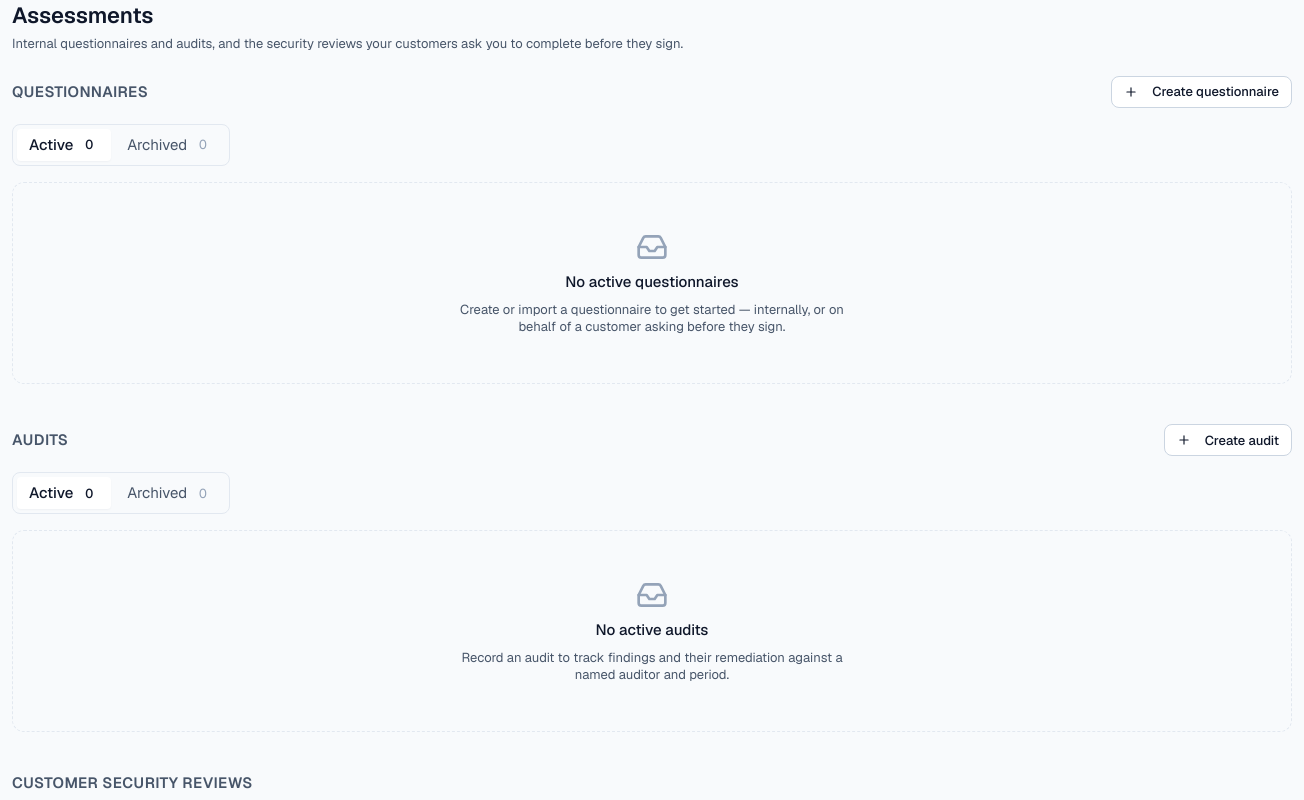
Test: Audits › opens with nothing chosen, and custom last
Click the button "Create audit".
click(1228, 440)  # box [1164,424,1292,456]
(page scrolled)
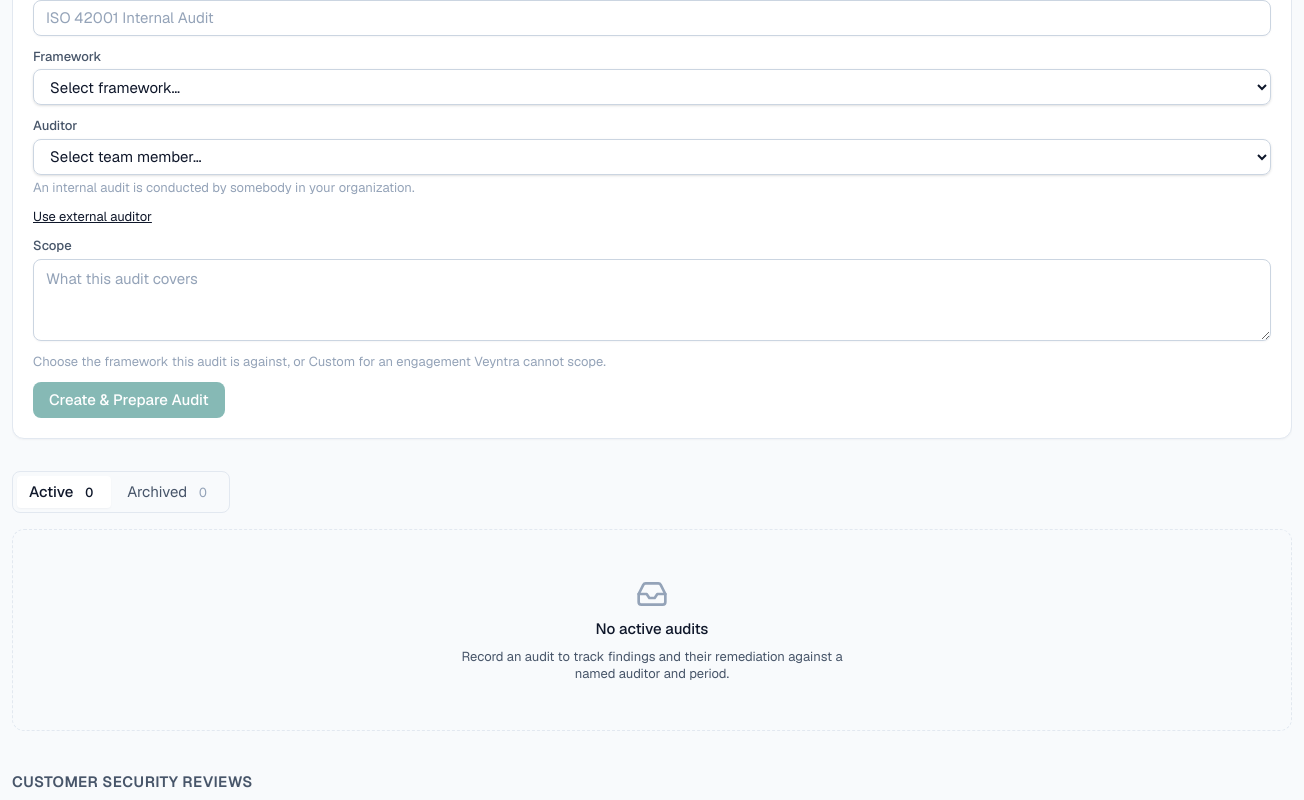
expect the dropdown labelled "Framework" shows "Select framework…": met, box [33,69,1271,105]
expect the text "Framework" is shown: met, box [33,48,101,65]
expect the text "Auditor" is shown: met, box [33,117,78,134]
